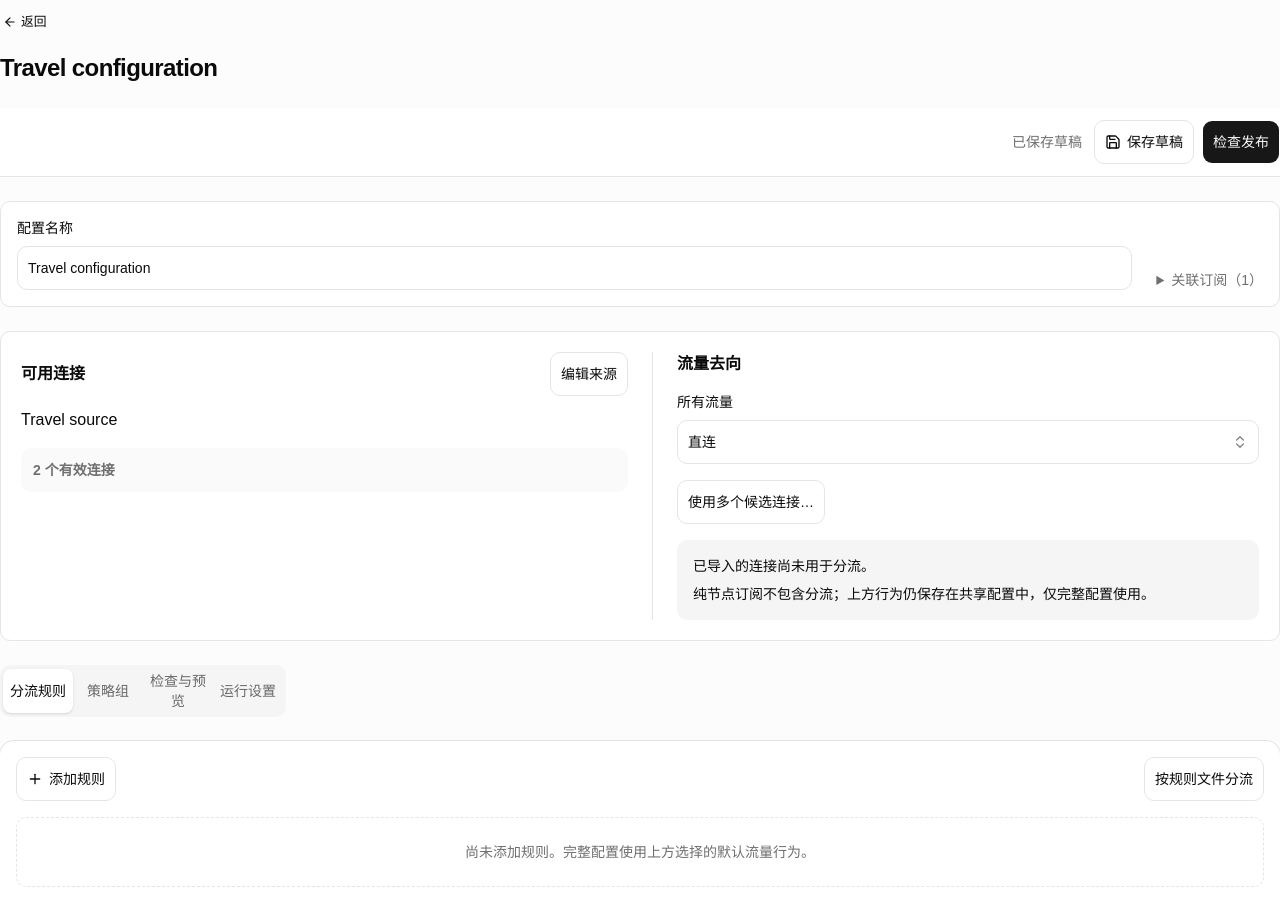
Test: uses the chosen existing subscription client even after changing the new-subscription default
Expected: the text "2 个有效连接" is shown, [33,462,115,478]
Expected: the text "纯节点订阅不包含分流；上方行为仍保存在共享配置中，仅完整配置使用。" is shown, [693,586,1155,602]
Click the tab "检查与预览".
click(178, 691)  # box [143,668,213,714]
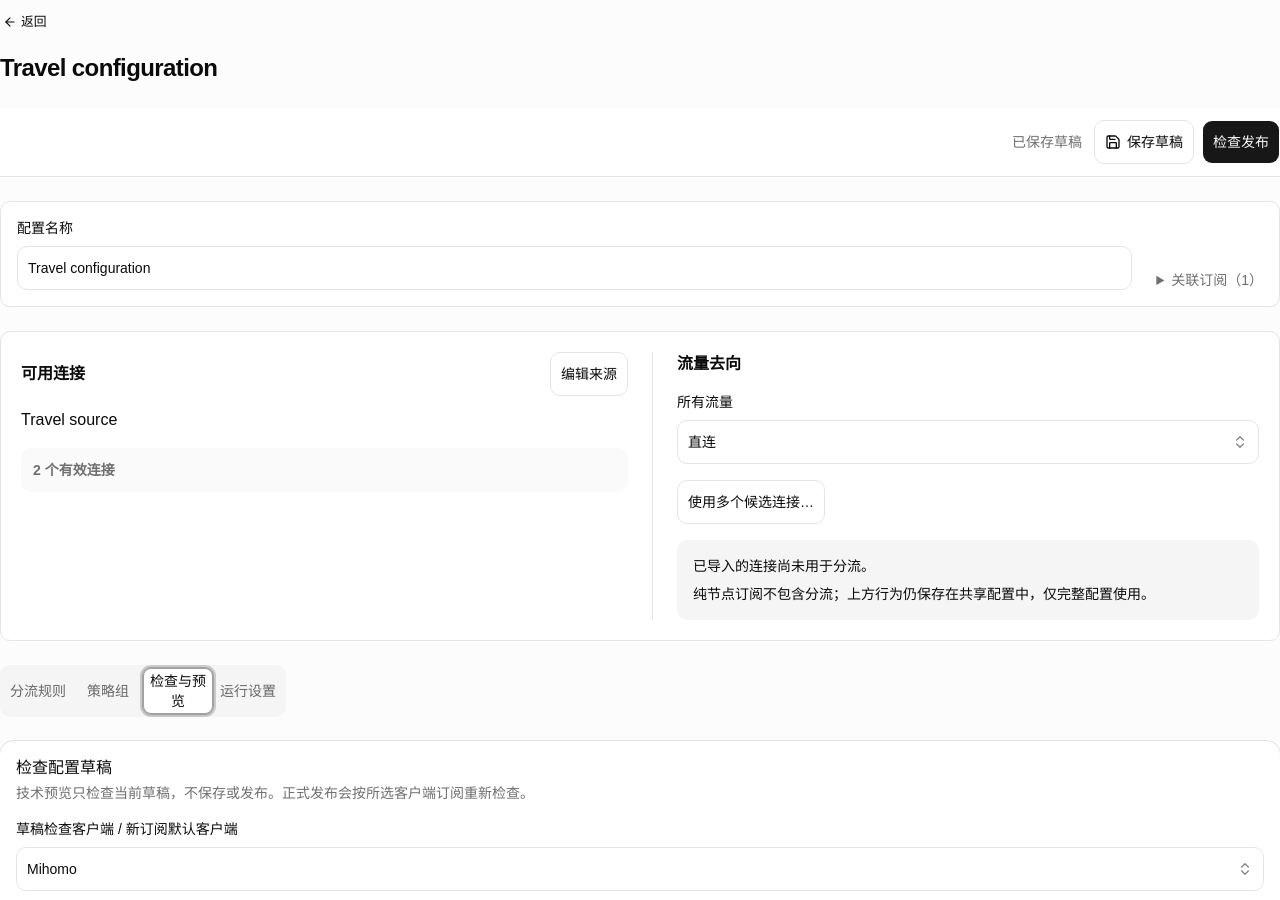
Click the dropdown named "草稿检查与新订阅默认客户端".
click(52, 869)  # box [16,847,1264,891]
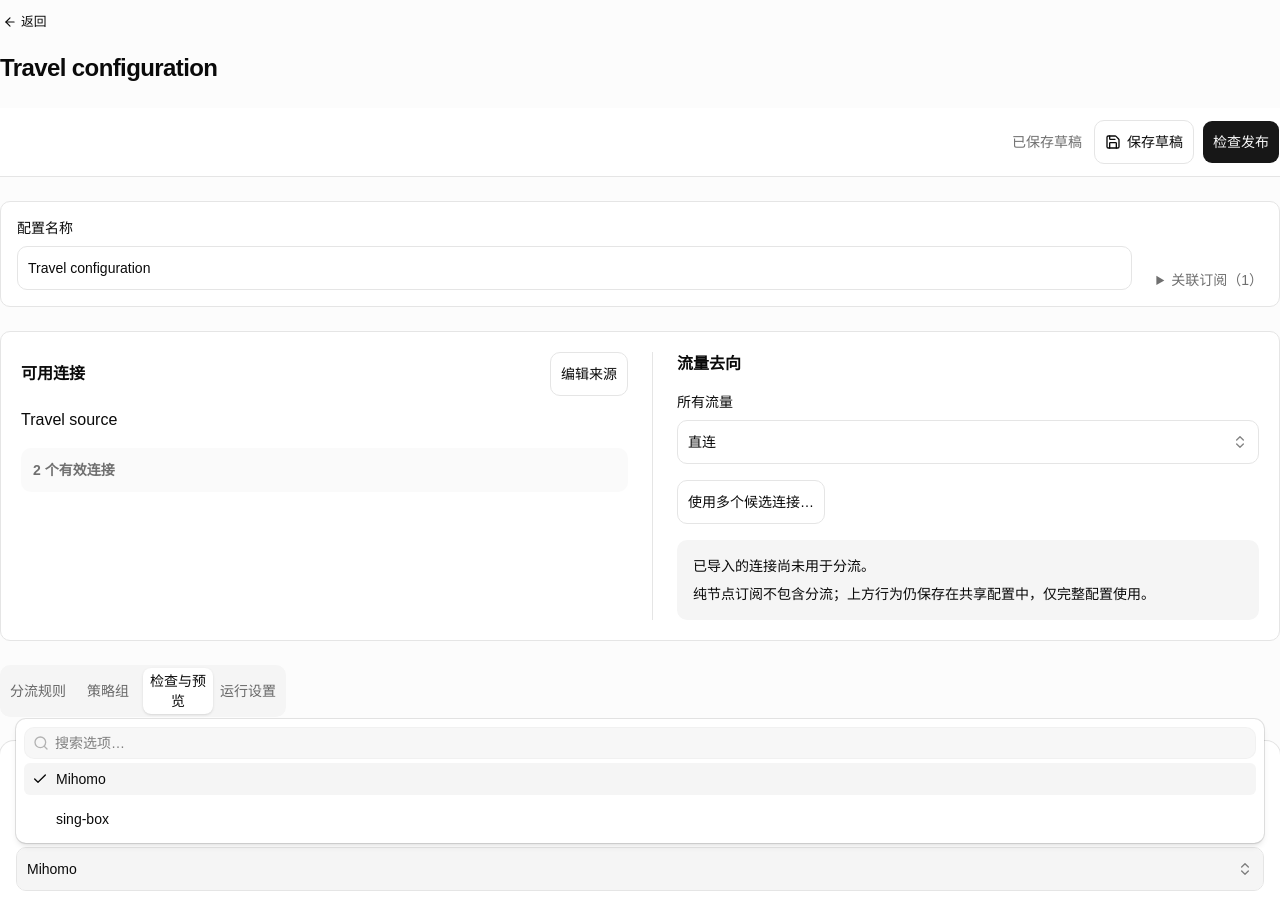
Click the option "sing-box".
click(82, 819)  # box [56,811,109,827]
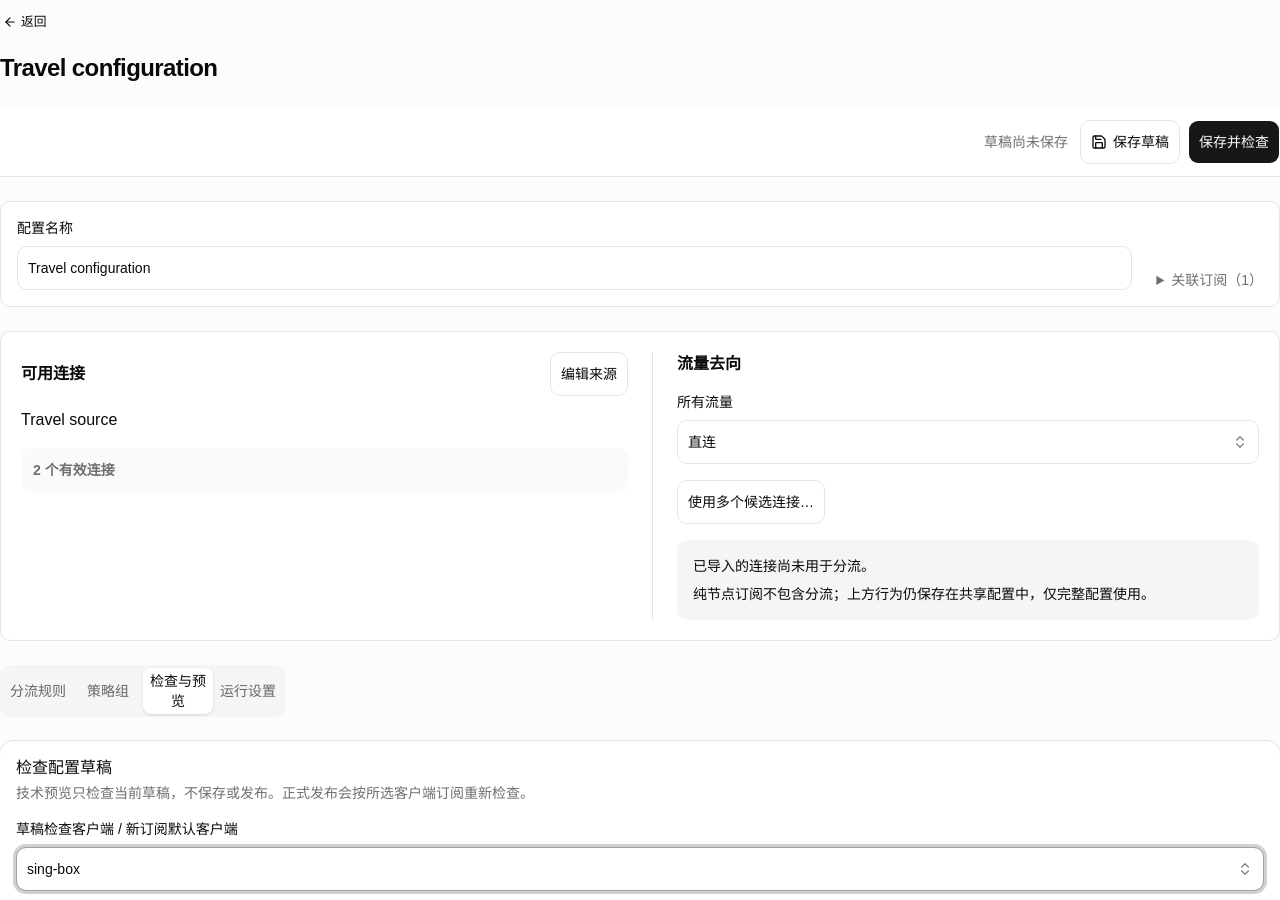
Click the button "保存并检查".
click(1234, 142)  # box [1188,120,1279,164]
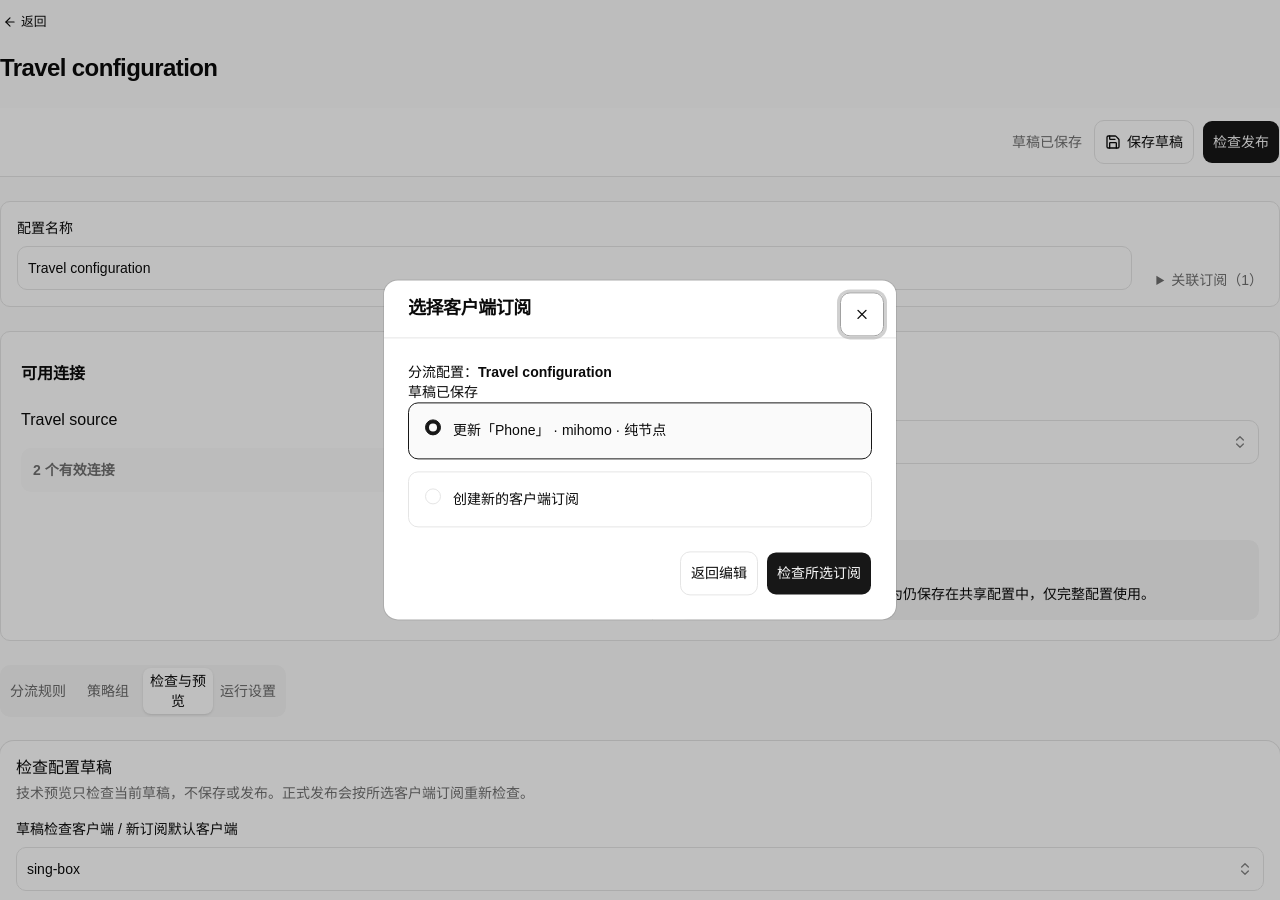
Click the button "检查所选订阅".
click(819, 574)  # box [766,552,872,596]
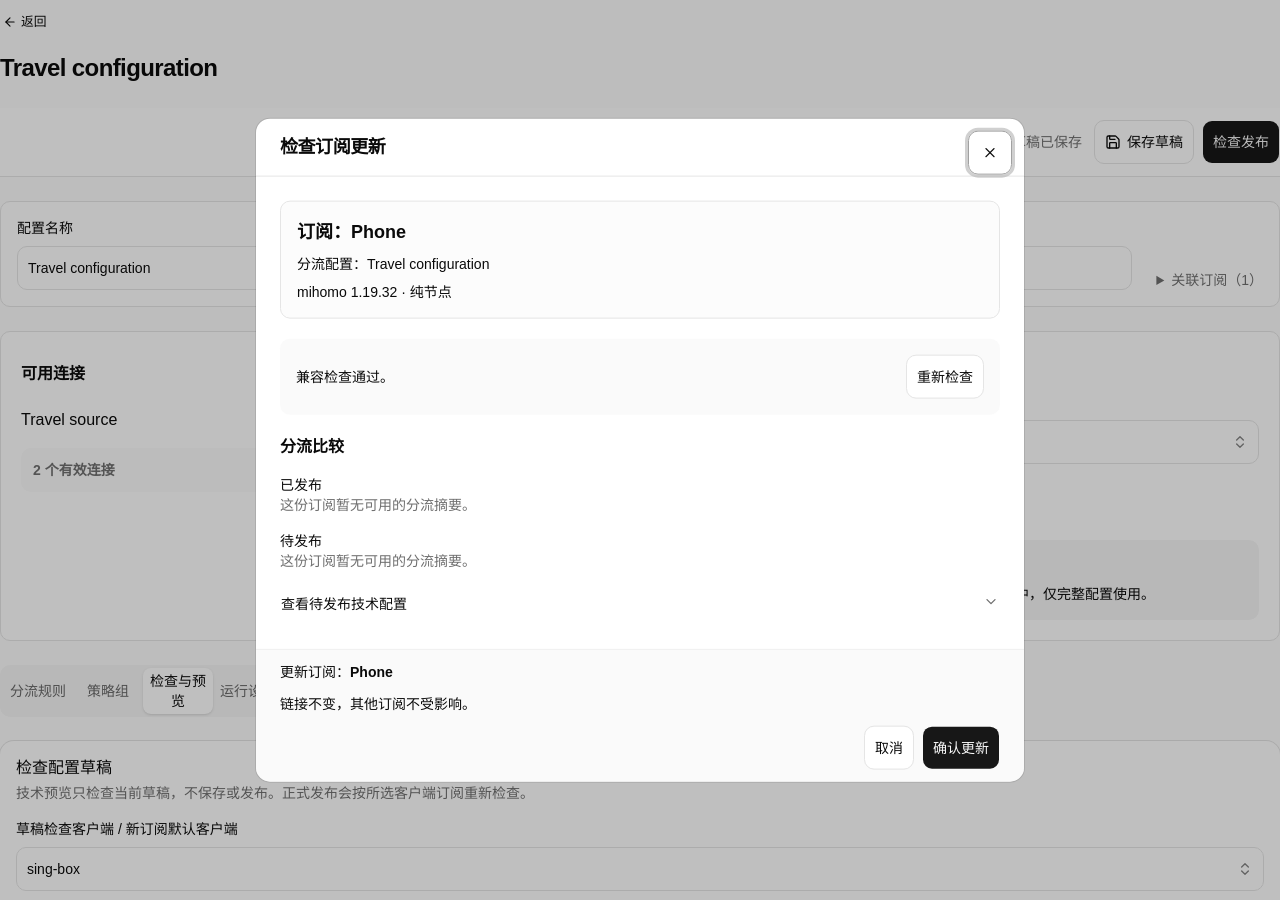
Result: the dialog named "检查订阅更新「Phone」" is shown at [256,119,1024,781]
